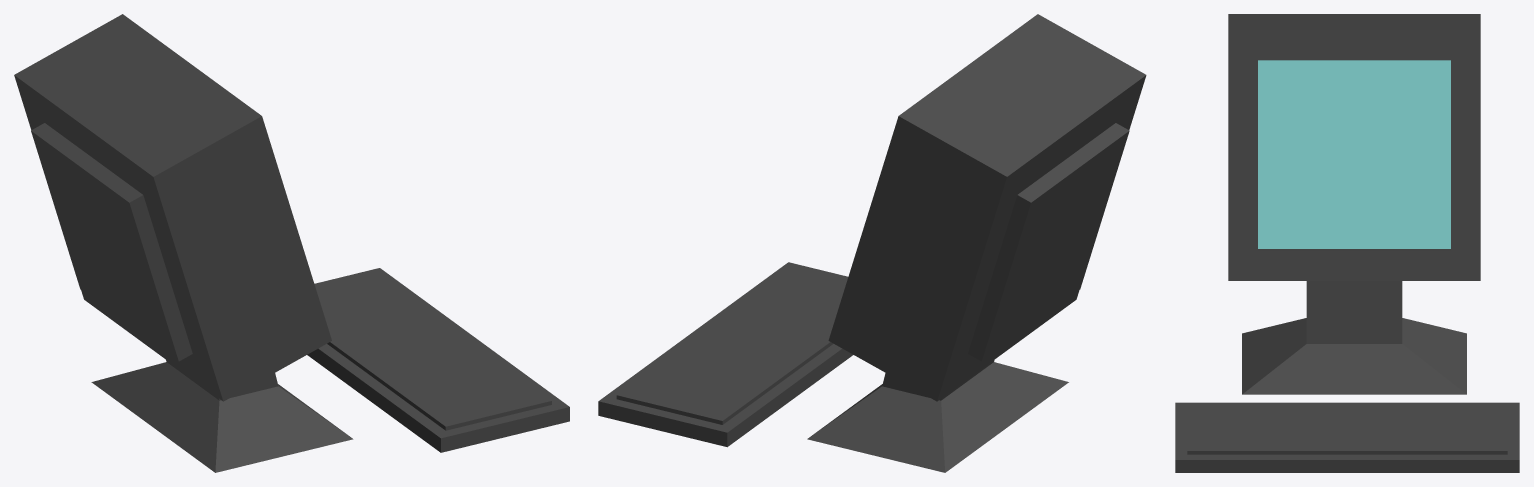
The model's file is computer.fbx.
3 views of the same model, side by side, from view 1: azimuth 30°, elevation 25°; view 2: azimuth 150°, elevation 25°; view 3: azimuth 270°, elevation 25° (orthographic). The views are drawn at different scales.
Parts seen in each view (by area): view 1: computer; view 2: computer; view 3: computer.
Boxes of the visible parts, x1,y1,x2,y2 form: computer: [14, 14, 569, 472]; computer: [598, 14, 1146, 472]; computer: [1175, 14, 1519, 472].
Bounding box in the file's own units: 92.25 × 79.62 × 77.68.
